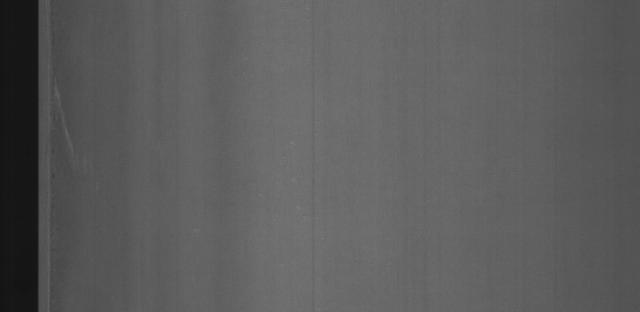silk_spot: (42, 69, 77, 177)
